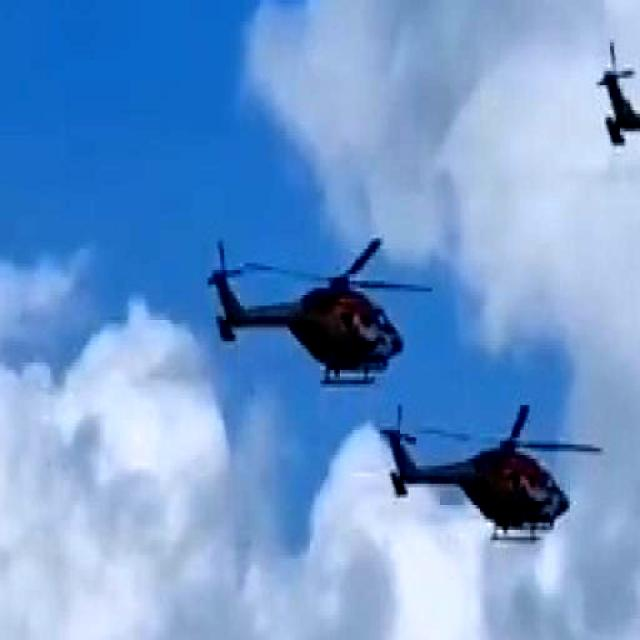drone: (362, 389, 579, 558), (191, 238, 418, 389), (591, 10, 640, 206)
